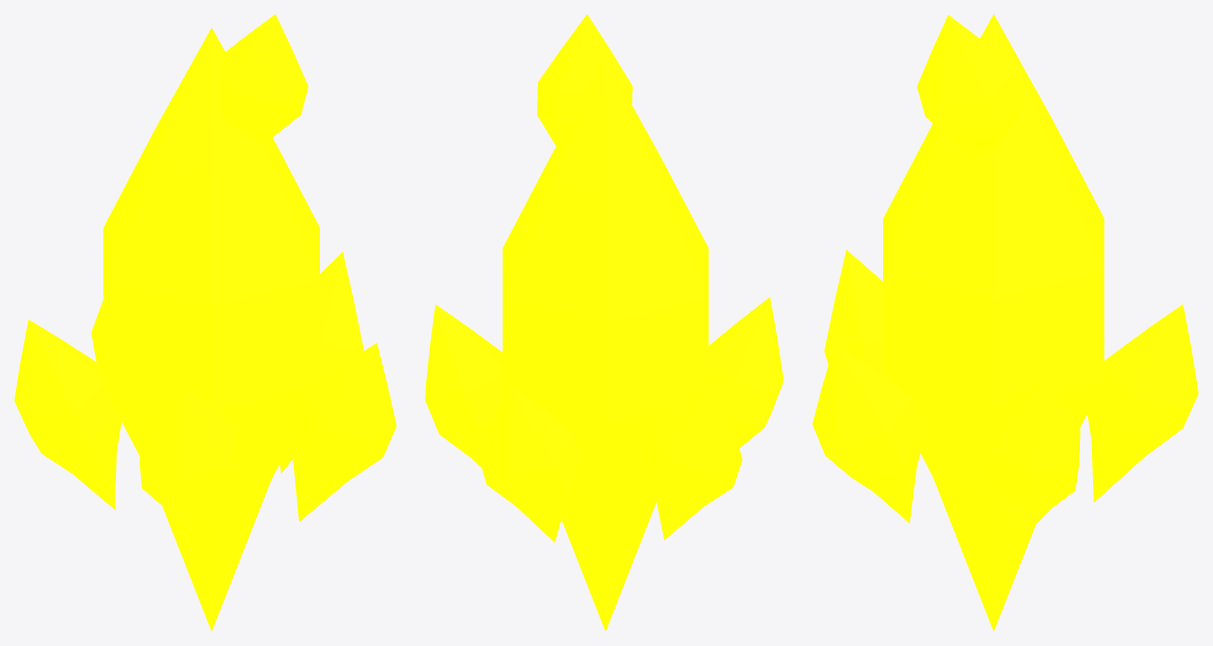
Rendered from Star_Crystal.glb.
3 views of the same model, side by side, from view 1: azimuth 30°, elevation 25°; view 2: azimuth 150°, elevation 25°; view 3: azimuth 270°, elevation 25° (orthographic). The views are drawn at different scales.
Visible parts, largest first — view 1: Star_Crystal; view 2: Star_Crystal; view 3: Star_Crystal.
Part boxes in pixels (bbox=[...]): Star_Crystal: bbox=[14, 14, 396, 631]; Star_Crystal: bbox=[425, 14, 783, 631]; Star_Crystal: bbox=[812, 14, 1198, 631].
Size of the model in its own units: 1.1 by 1.96 by 1.07.
